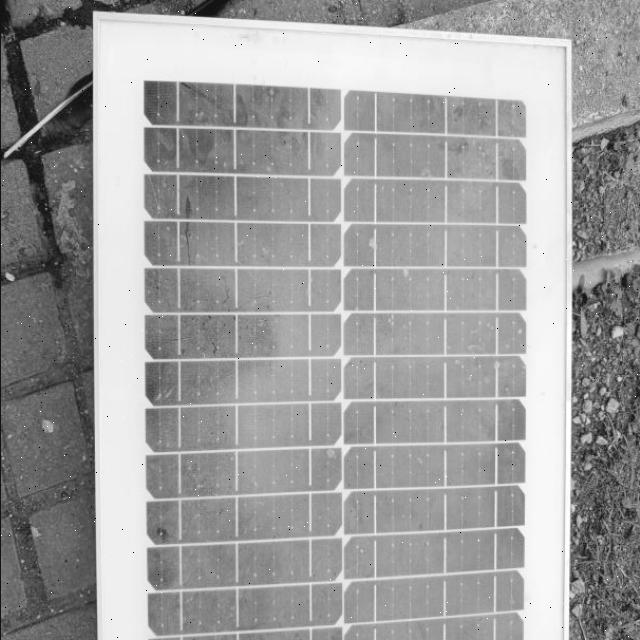Surface Contaminant: (128, 44, 537, 640)
